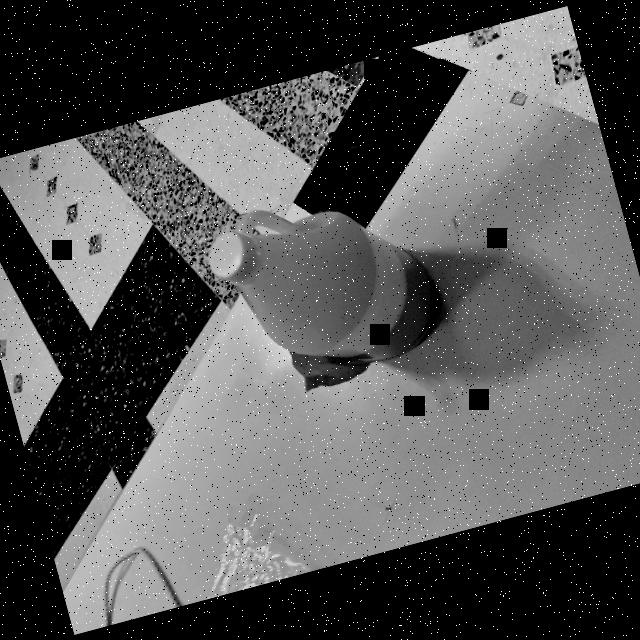chemical_plastic_gallon: (168, 154, 472, 426)
